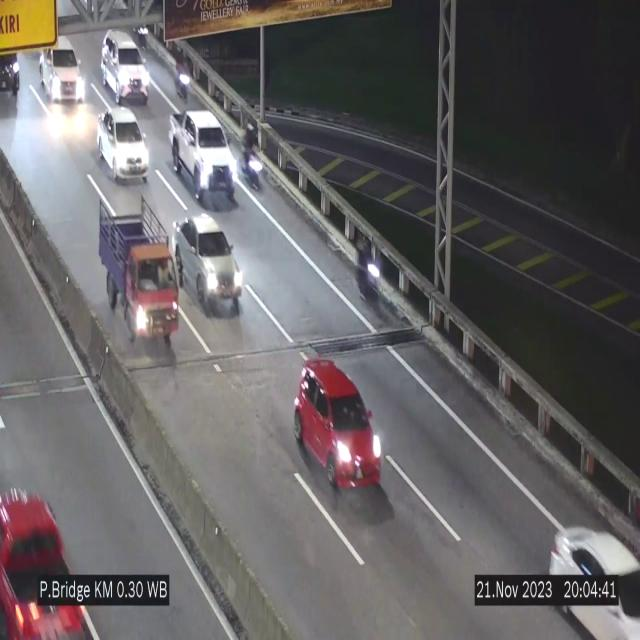Car: (0, 457, 86, 640), (542, 506, 640, 640), (295, 359, 385, 498), (170, 214, 242, 316), (168, 110, 236, 206), (98, 108, 149, 182), (39, 33, 89, 107), (101, 29, 149, 103), (0, 48, 24, 96)
Motorcycle: (240, 113, 264, 201), (355, 239, 383, 312), (176, 46, 194, 100)
Truck: (100, 199, 178, 357)
